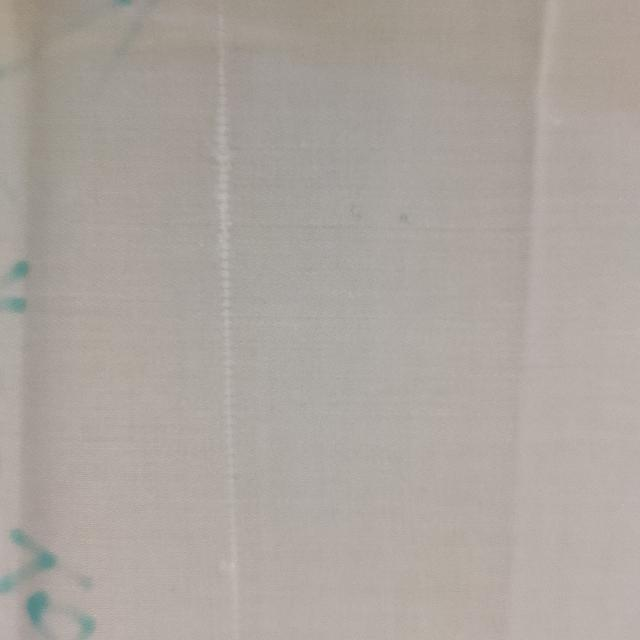stains: (178, 16, 292, 624)
